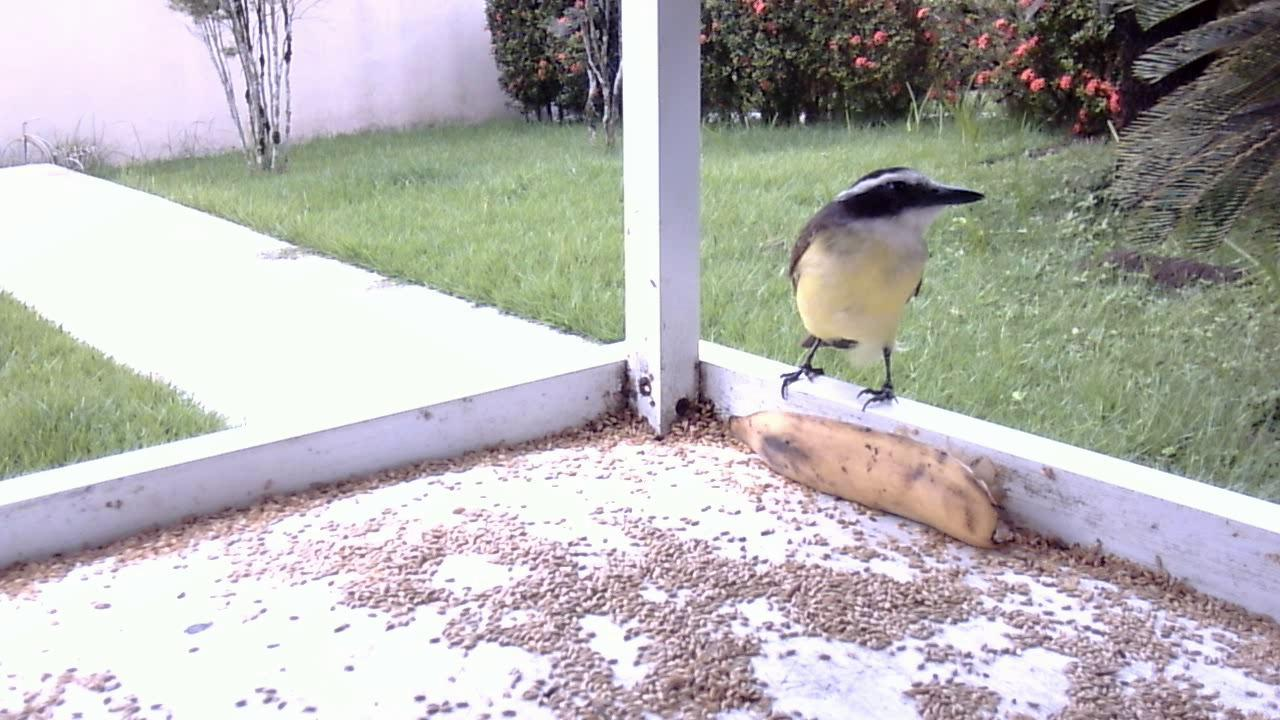bem_te_vi: (768, 162, 985, 422)
